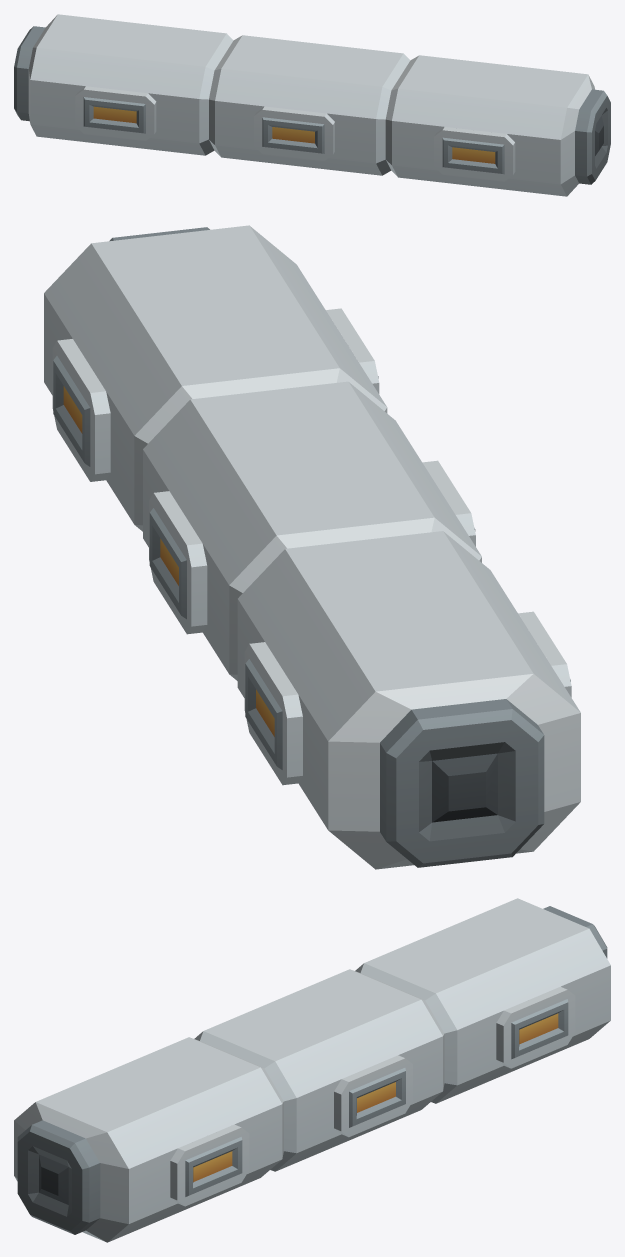
The model's file is tunnel_diagonal_long_a.glb.
3 views of the same model, one above another, from view 1: azimuth 30°, elevation 25°; view 2: azimuth 150°, elevation 25°; view 3: azimuth 270°, elevation 25° (orthographic). The views are drawn at different scales.
Visible parts, largest first — view 1: tunnel_diagonal_long_A; view 2: tunnel_diagonal_long_A; view 3: tunnel_diagonal_long_A.
Part boxes in pixels (bbox=[...]): tunnel_diagonal_long_A: bbox=[14, 14, 610, 196]; tunnel_diagonal_long_A: bbox=[44, 225, 580, 869]; tunnel_diagonal_long_A: bbox=[14, 898, 610, 1242].
Bounding box in the file's own units: 8.82 × 1.8 × 8.82.
Materials: 1 (1 with a texture image).
